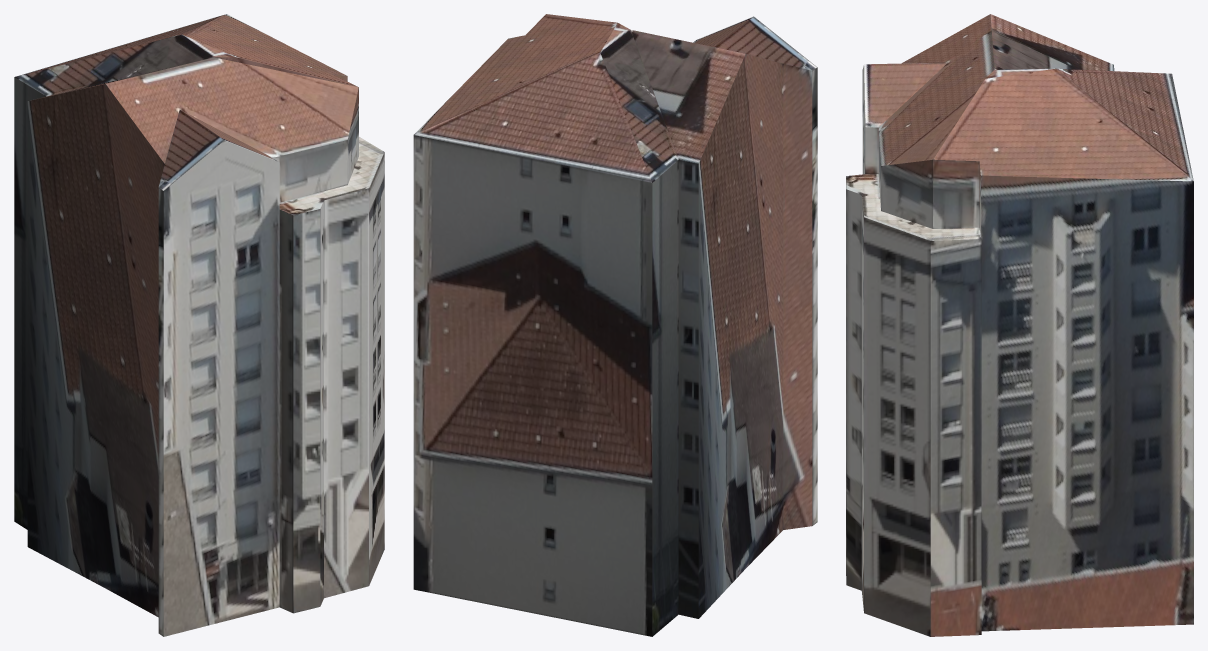
3 renders of one model, left to right at view 1: azimuth 30°, elevation 25°; view 2: azimuth 150°, elevation 25°; view 3: azimuth 270°, elevation 25°, orthographic. The views are drawn at different scales.
Parts seen in each view (by area): view 1: Z_UP; view 2: Z_UP; view 3: Z_UP.
Boxes of the visible parts, bbox=[...] form: Z_UP: bbox=[14, 14, 384, 636]; Z_UP: bbox=[413, 14, 817, 636]; Z_UP: bbox=[846, 14, 1193, 636].
Size of the model in its own units: 14.57 by 26.54 by 16.65.
2 materials, 1 textured.
